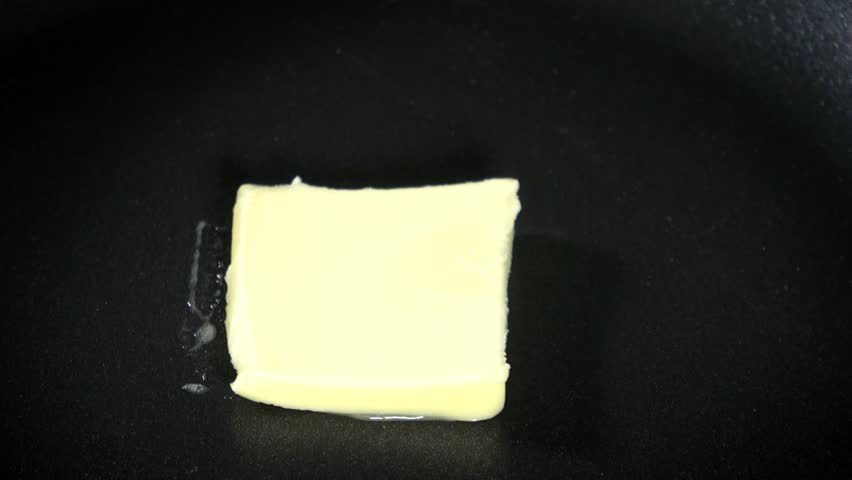Butter: (230, 179, 519, 419)
